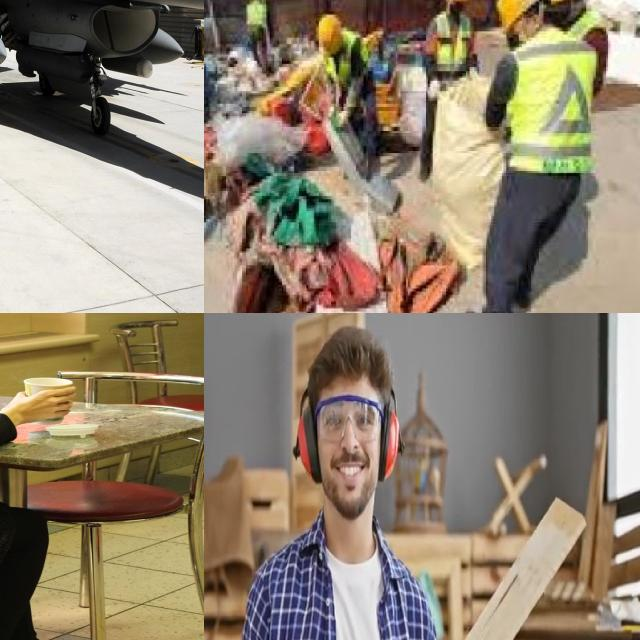Ear-protection: (290, 392, 324, 484), (381, 398, 404, 484)
glasses: (314, 395, 384, 446)
person: (235, 326, 455, 640)
